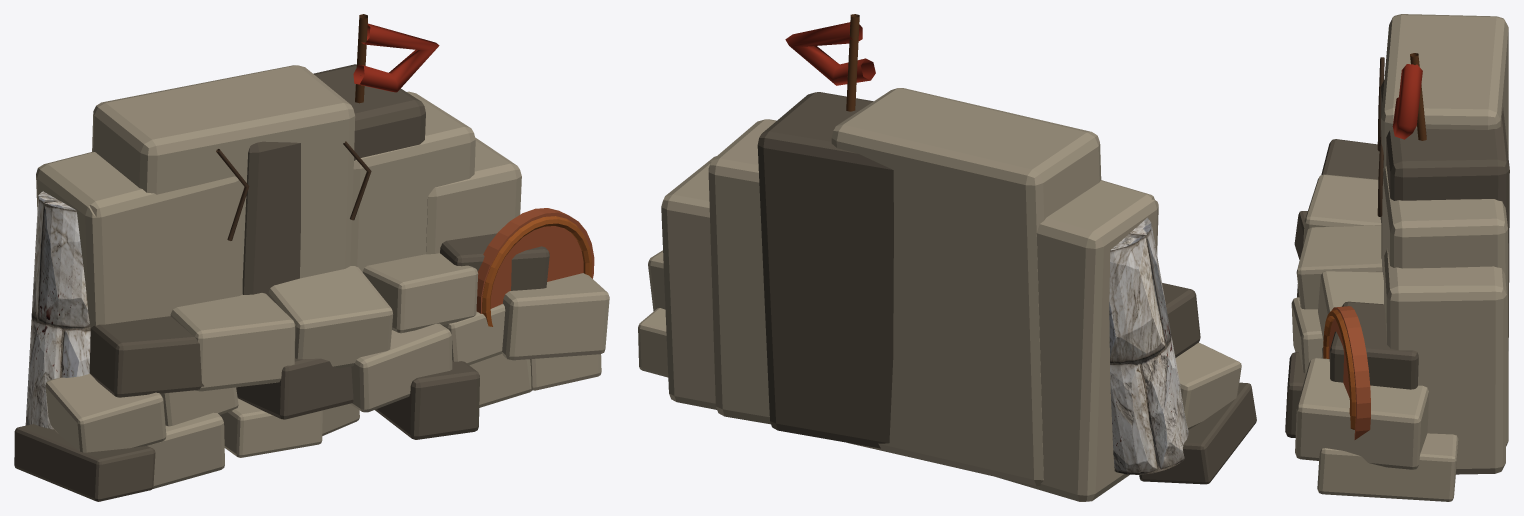
Rendered from rubble_cover_high_LOD0.glb.
3 renders of one model, left to right at view 1: azimuth 30°, elevation 25°; view 2: azimuth 150°, elevation 25°; view 3: azimuth 270°, elevation 25°, orthographic. The views are drawn at different scales.
Parts seen in each view (by area): view 1: HighCoverWallTooth.001, HighCoverWallTooth, HighCoverWallTooth.002, HighCoverWallTooth.003, HighCoverSplitColumn, HighCoverShoulderRubble.014, HighCoverShoulderRubble.015, HighCoverShoulderRubble.012, HighCoverShoulderRubble.013, HighCoverShoulderRubble.007, HighCoverShoulderRubble, HighCoverShoulderRubble.016 (+16 smaller); view 2: HighCoverWallTooth.001, HighCoverWallTooth.002, HighCoverWallTooth, HighCoverSplitColumn, HighCoverWallTooth.003, HighCoverWallTooth.004, HighCoverShoulderRubble, HighCoverShoulderRubble.007, HighCoverTornCloth, HighCoverShoulderRubble.013, HighCoverShoulderRubble.006, HighCoverTornStandard (+1 smaller); view 3: HighCoverWallTooth.004, HighCoverWallTooth.001, HighCoverShoulderRubble.012, HighCoverWallTooth.003, HighCoverWallTooth.002, HighCoverShoulderRubble.006, HighCoverShoulderRubble.015, HighCoverShoulderRubble.017, HighCoverShoulderRubble.014, HighCoverBuriedShield, HighCoverShoulderRubble.016, HighCoverShoulderRubble.013 (+8 smaller).
Part boxes in pixels (x1,y1,x2,y2): HighCoverWallTooth.001: (92,65,355,278); HighCoverWallTooth: (36,152,242,327); HighCoverWallTooth.002: (242,64,425,295); HighCoverWallTooth.003: (350,91,475,271); HighCoverSplitColumn: (25,191,90,429); HighCoverShoulderRubble.014: (170,293,295,391); HighCoverShoulderRubble.015: (268,266,392,368); HighCoverShoulderRubble.012: (502,273,609,360); HighCoverShoulderRubble.013: (89,316,203,397); HighCoverShoulderRubble.007: (45,374,166,452); HighCoverShoulderRubble: (14,424,155,501); HighCoverShoulderRubble.016: (362,253,478,333); HighCoverWallTooth.001: (831,88,1101,486); HighCoverWallTooth.002: (757,92,893,448); HighCoverWallTooth: (996,180,1158,501); HighCoverSplitColumn: (1109,217,1188,474); HighCoverWallTooth.003: (708,119,776,424); HighCoverWallTooth.004: (661,156,716,409); HighCoverShoulderRubble: (1139,382,1256,484); HighCoverShoulderRubble.007: (1175,342,1241,429); HighCoverTornCloth: (785,22,875,85); HighCoverShoulderRubble.013: (1162,283,1200,357); HighCoverShoulderRubble.006: (638,308,668,377); HighCoverTornStandard: (846,14,859,111); HighCoverWallTooth.004: (1384,249,1506,474); HighCoverWallTooth.001: (1381,14,1508,258); HighCoverShoulderRubble.012: (1295,358,1428,469); HighCoverWallTooth.003: (1382,166,1508,446); HighCoverWallTooth.002: (1380,80,1509,350); HighCoverShoulderRubble.006: (1317,433,1458,501); HighCoverShoulderRubble.015: (1296,225,1382,309); HighCoverShoulderRubble.017: (1329,301,1418,389); HighCoverShoulderRubble.014: (1303,174,1381,244); HighCoverBuriedShield: (1328,306,1370,439); HighCoverShoulderRubble.016: (1318,271,1383,340); HighCoverShoulderRubble.013: (1321,139,1379,179).
Size of the model in its own units: 3.13 by 2.1 by 1.17.
Materials: 8 (1 with a texture image).
